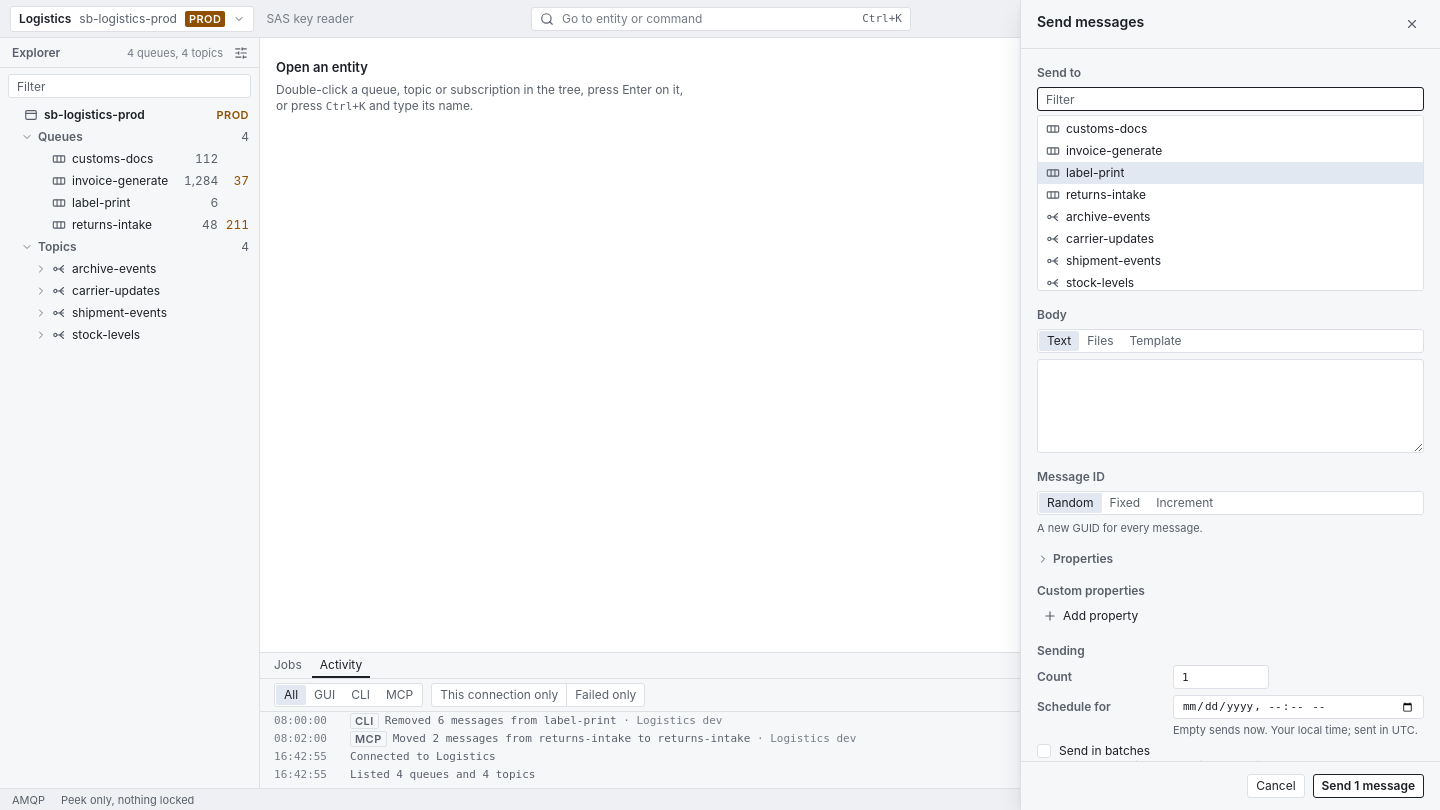
Test case: ComposerSheet › an invalid time to live blocks sending
The image size is (1440, 810).
Step 1. Click the button "Properties" → point(1075, 559), box x1=1037 y1=551 x2=1113 y2=567
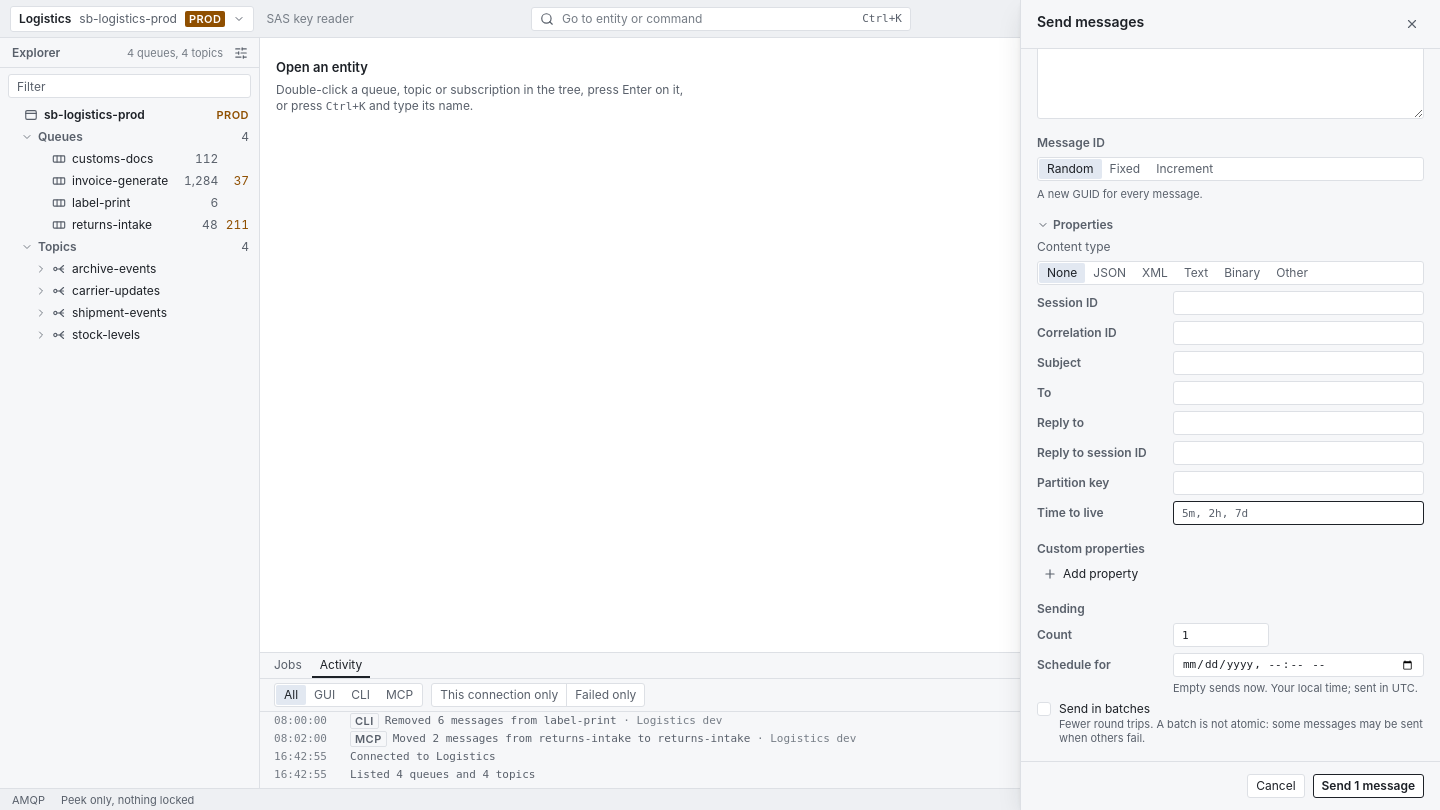
Step 2. Type keys "soon"
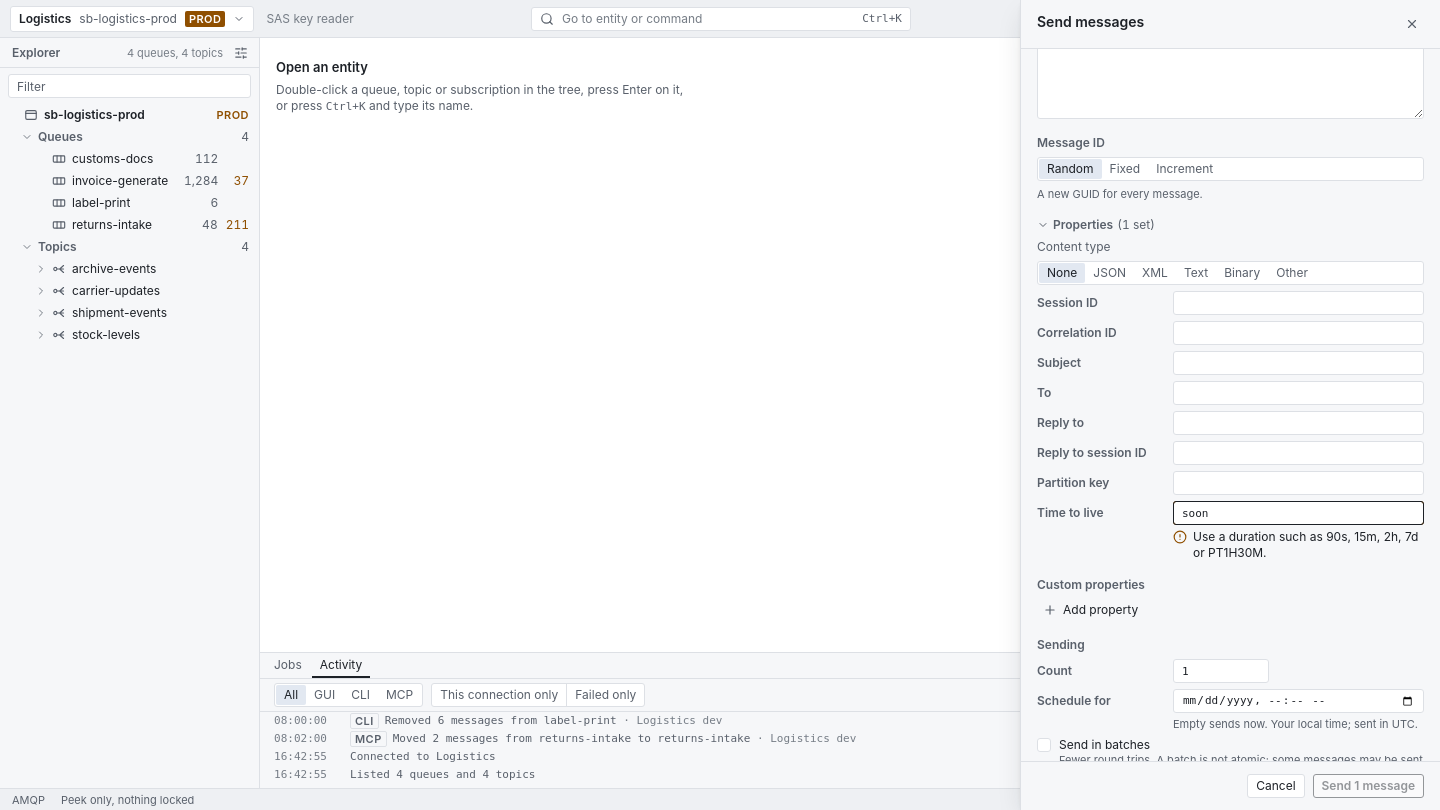
expect the button "Send 1 message" is disabled: met, box x1=1313 y1=774 x2=1424 y2=798
